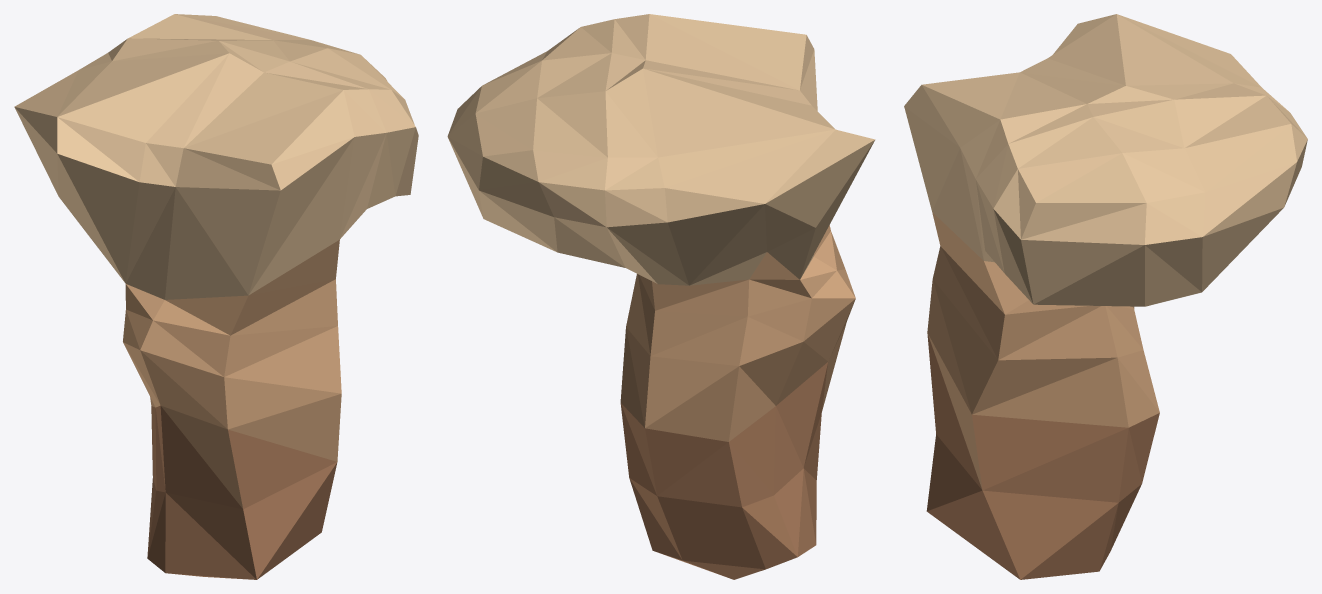
Rendered from canyon-4-2.glb.
3 renders of one model, left to right at view 1: azimuth 30°, elevation 25°; view 2: azimuth 150°, elevation 25°; view 3: azimuth 270°, elevation 25°, orthographic. The views are drawn at different scales.
Parts seen in each view (by area): view 1: canyon-4-2; view 2: canyon-4-2; view 3: canyon-4-2.
Boxes of the visible parts, <box> form: canyon-4-2: <box>14,14,418,579</box>; canyon-4-2: <box>447,14,875,579</box>; canyon-4-2: <box>904,14,1307,579</box>.
Bounding box in the file's own units: 18.54 × 24 × 17.21.
